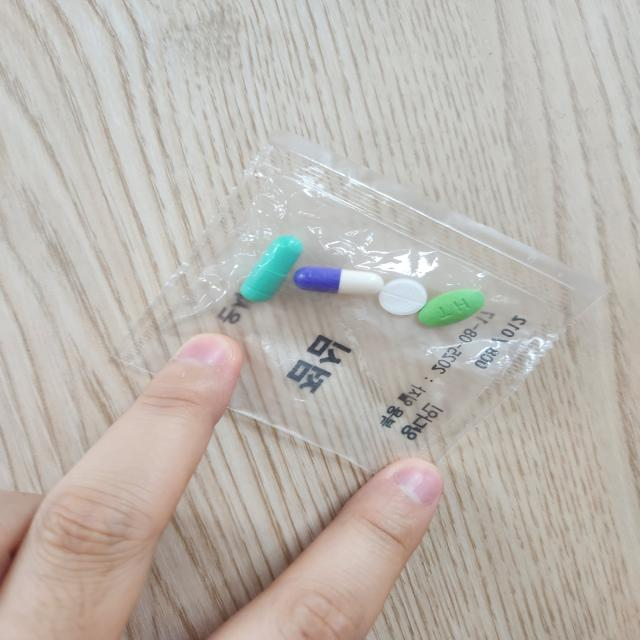러키펜정: (380, 281, 426, 315)
씨엠지세파클러캡슐: (294, 267, 385, 296)
에르도캡슐: (237, 235, 306, 305)
휴티렌정: (412, 289, 484, 329)
